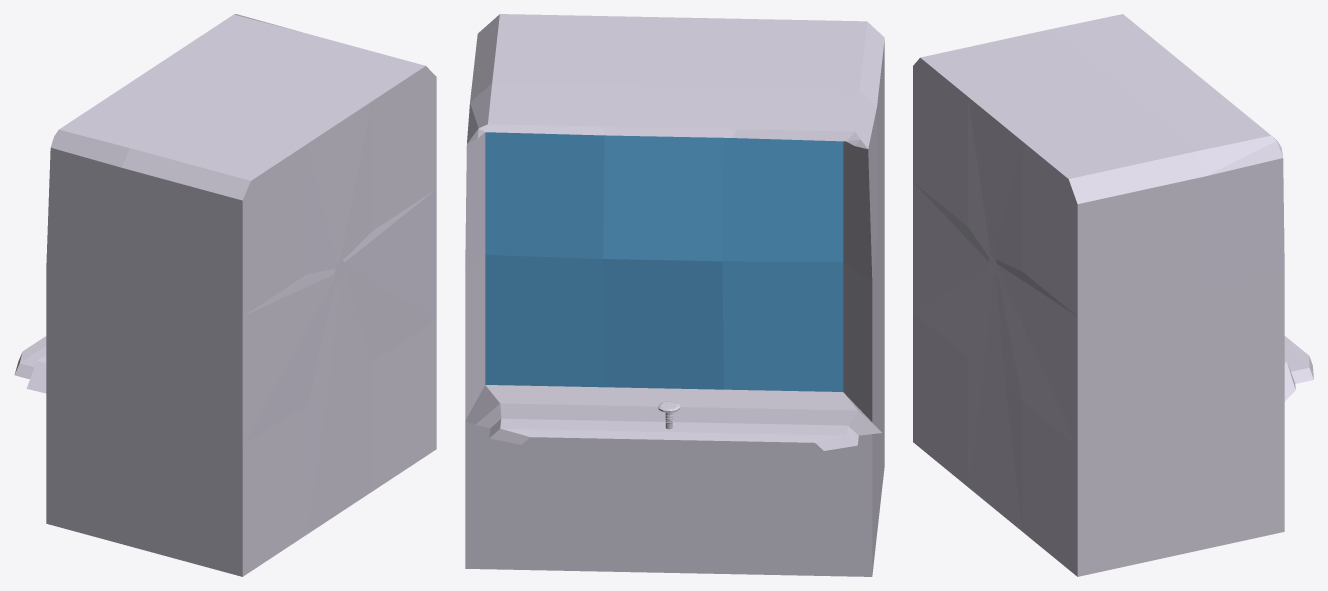
Rendered from ArcadeWheel.fbx.
3 renders of one model, left to right at view 1: azimuth 30°, elevation 25°; view 2: azimuth 150°, elevation 25°; view 3: azimuth 270°, elevation 25°, orthographic. The views are drawn at different scales.
Parts seen in each view (by area): view 1: Wheel; view 2: Wheel; view 3: Wheel.
Part boxes in pixels (bbox=[...]): Wheel: bbox=[14, 14, 436, 576]; Wheel: bbox=[465, 14, 884, 576]; Wheel: bbox=[913, 14, 1313, 576].
Bounding box in the file's own units: 3.89 × 3.78 × 3.52.
